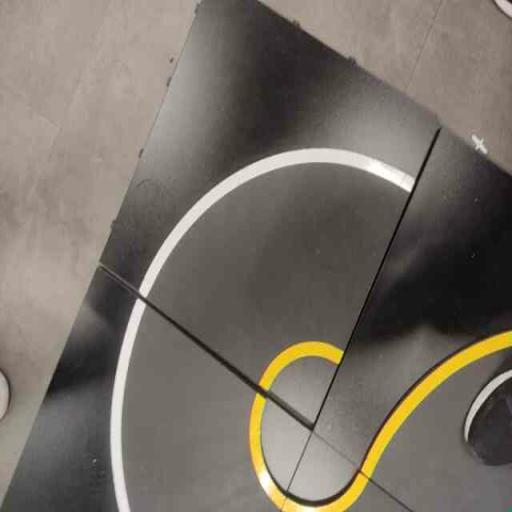left: (100, 265, 313, 511)
